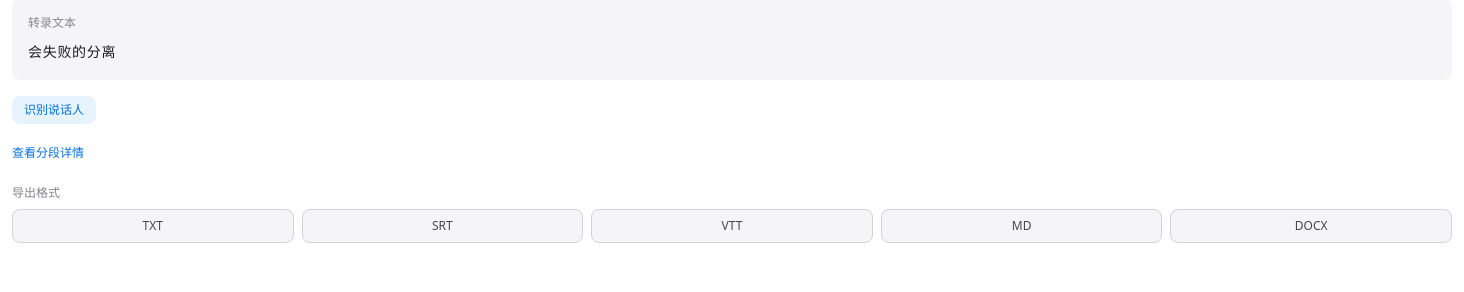
Scenario: TranscriptionResult — speaker diarization › shows the diarize error when the result reports failure
The image size is (1464, 292).
Click the button "识别说话人": (54, 110) left=12, top=96, right=96, bottom=124
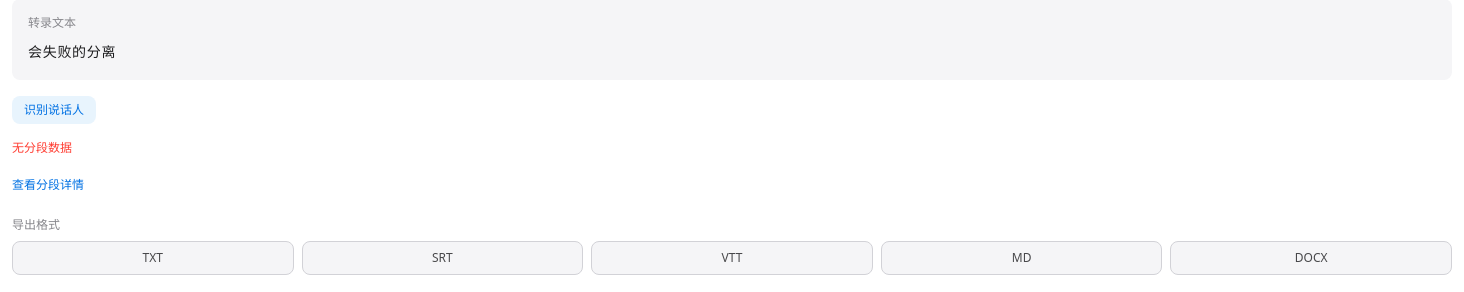
Expected: the text "无分段数据" is shown, left=12, top=139, right=72, bottom=156
